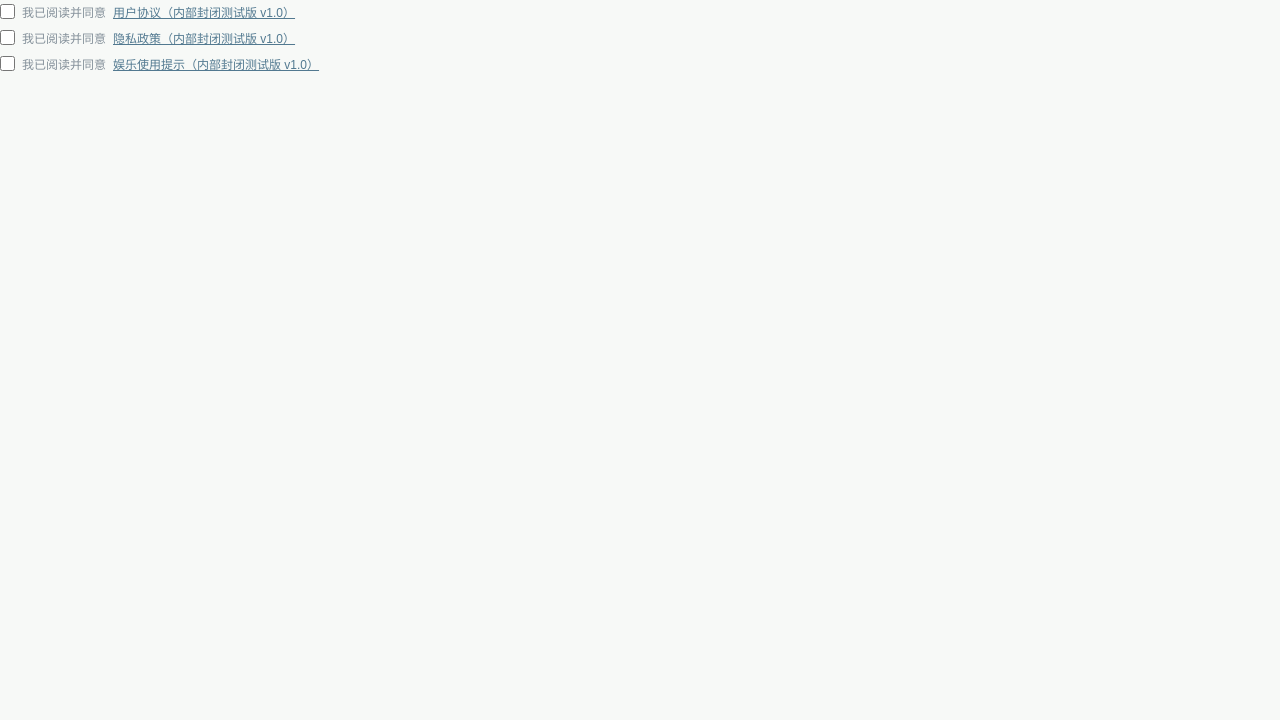
it: ConsentChecklist › opens readable consent content without navigating to a missing page anchor
What coordinates should you click on to do the following:
click the button "用户协议（内部封闭测试版 v1.0）"
I would click on:
 (204, 12)
Its box is 113,3 -> 295,20.
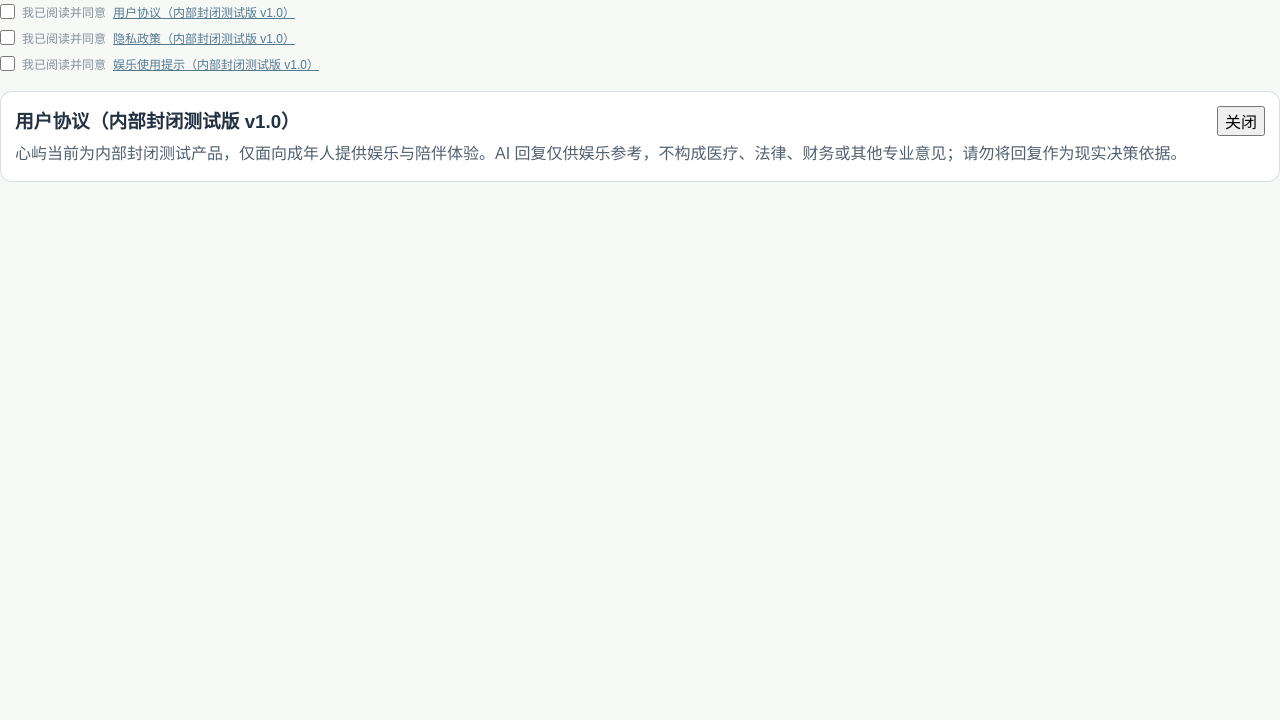
Check: the dialog "用户协议" shows "仅供娱乐参考", box 15,145 -> 1187,162
What coordinates should you click on to do the following:
click the button with aria-label "关闭协议内容"
I would click on:
 (1241, 121)
Its box is 1217,106 -> 1265,136.
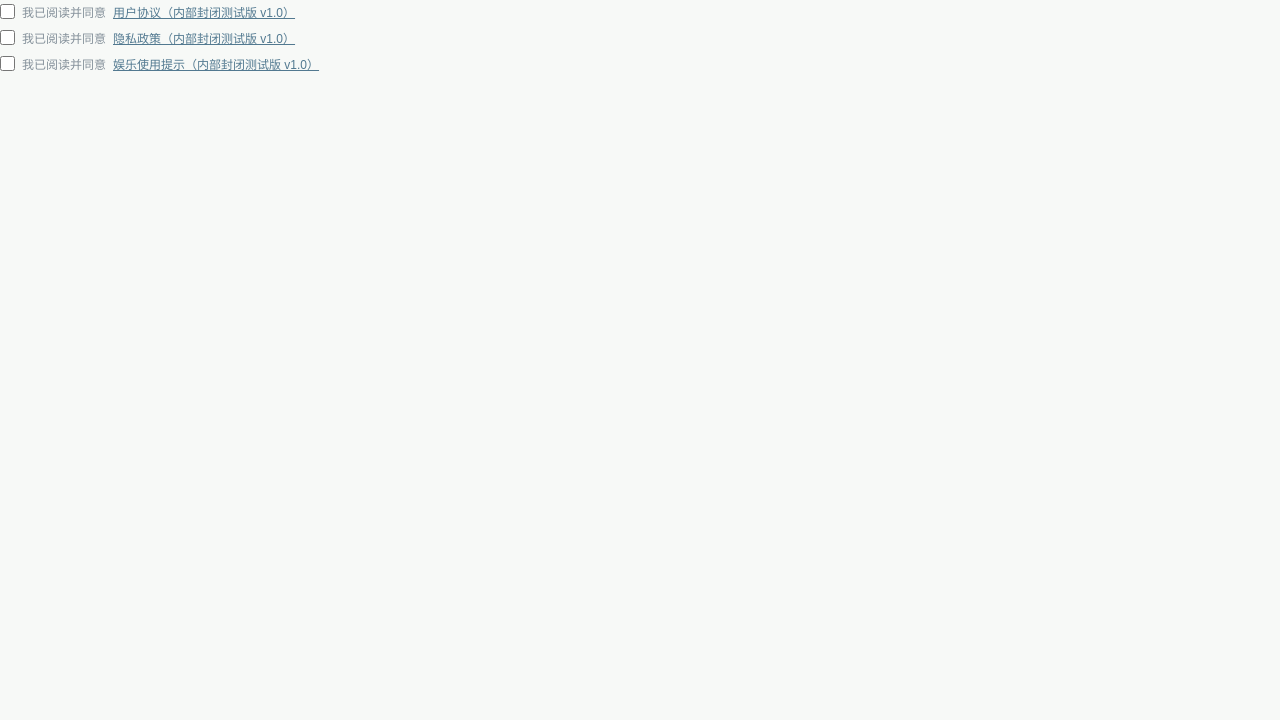
Check: the dialog is gone
